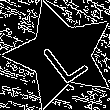L_NW: (32, 26, 90, 84)
